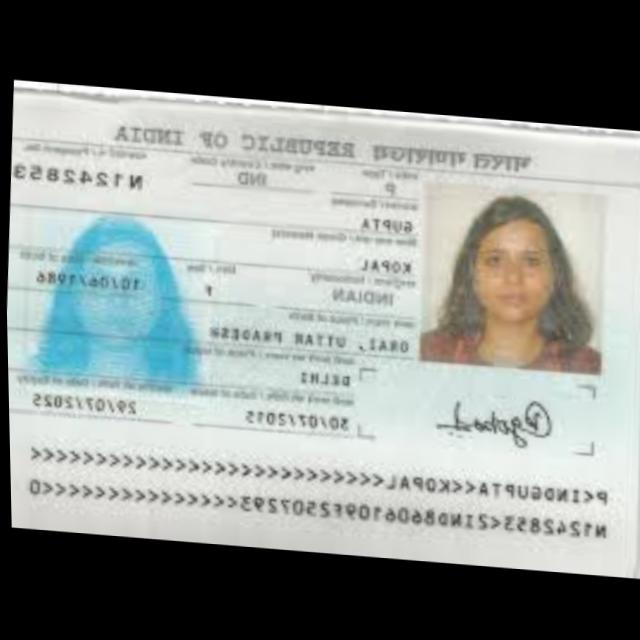passport: (1, 79, 640, 575)
